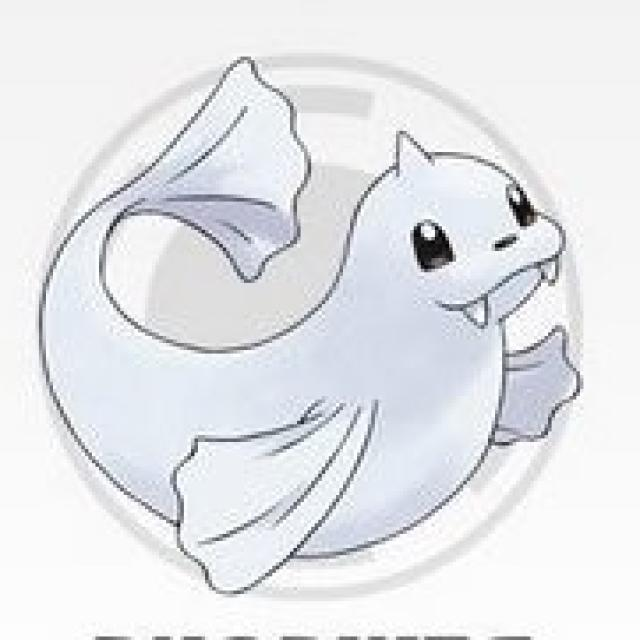Dewgong: (41, 52, 550, 598)
